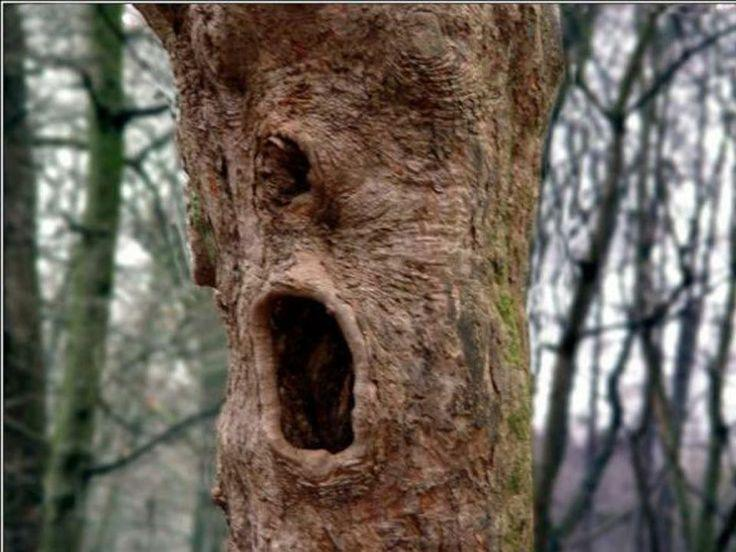hollow: (267, 295, 353, 452)
